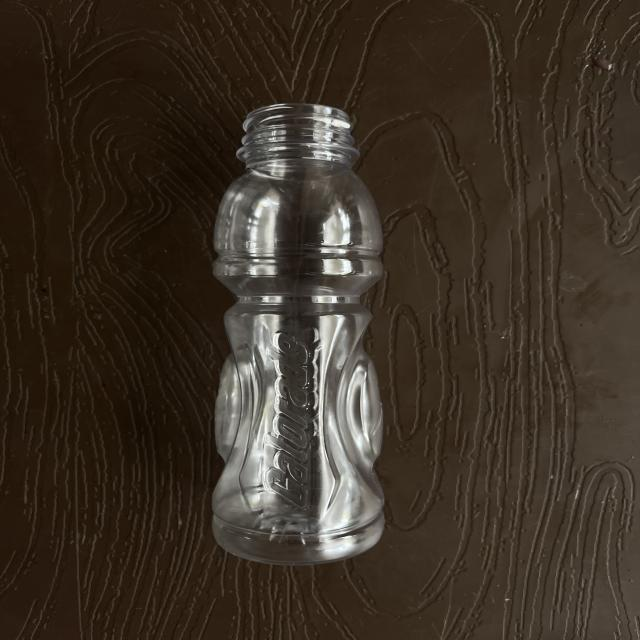PET_ClearBottle: (184, 106, 557, 568)
